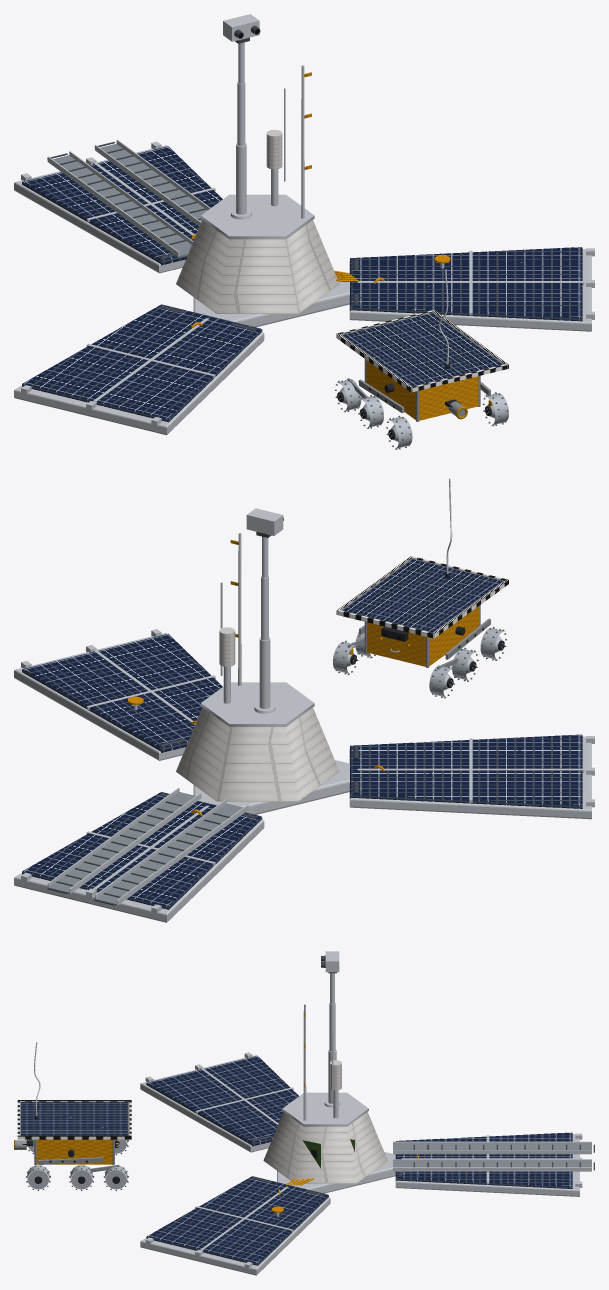
The model's file is sojourner_pathfinder.glb.
The picture shows the model from 3 angles, top to bottom: view 1: azimuth 30°, elevation 25°; view 2: azimuth 150°, elevation 25°; view 3: azimuth 270°, elevation 25°; orthographic projection. The views are drawn at different scales.
Parts seen in each view (by area): view 1: Petal_3, Petal_2, Central_Electronics_Body, Petal_1, Solar_Panel_Assembly, Rover_Deployment_Ramps, Chassis_Assembly, Base_Assembly, IMP_Camera_Mast, Communications_Assembly, IMP_Stereo_Camera_Head, ASI_MET_Meteorology_Mast (+4 smaller); view 2: Petal_3, Petal_2, Central_Electronics_Body, Petal_1, Solar_Panel_Assembly, Rover_Deployment_Ramps, Chassis_Assembly, Base_Assembly, IMP_Camera_Mast, Communications_Assembly, IMP_Stereo_Camera_Head, ASI_MET_Meteorology_Mast (+4 smaller); view 3: Petal_2, Petal_3, Central_Electronics_Body, Petal_1, Rover_Deployment_Ramps, Solar_Panel_Assembly, Chassis_Assembly, Base_Assembly, IMP_Camera_Mast, Communications_Assembly, Suspension_Right, Wheel_Rear_Right (+2 smaller).
Boxes of the visible parts, x1,y1,x2,y2 form: Petal_3: (14,304,264,435); Petal_2: (349,247,594,331); Central_Electronics_Body: (176,194,358,313); Petal_1: (14,141,222,273); Solar_Panel_Assembly: (336,310,508,392); Rover_Deployment_Ramps: (47,139,210,257); Chassis_Assembly: (364,359,480,421); Base_Assembly: (191,233,384,328); IMP_Camera_Mast: (230,42,251,219); Communications_Assembly: (266,88,285,206); IMP_Stereo_Camera_Head: (223,14,260,43); ASI_MET_Meteorology_Mast: (301,65,311,218); Petal_3: (349,734,594,819); Petal_2: (14,629,222,760); Central_Electronics_Body: (176,682,339,801); Petal_1: (14,792,264,922); Solar_Panel_Assembly: (336,556,508,638); Rover_Deployment_Ramps: (47,788,248,905); Chassis_Assembly: (364,605,480,667); Base_Assembly: (191,720,384,815); IMP_Camera_Mast: (254,536,275,713); Communications_Assembly: (219,582,235,703); IMP_Stereo_Camera_Head: (246,508,283,537); ASI_MET_Meteorology_Mast: (230,532,241,685); Petal_2: (140,1176,330,1275); Petal_3: (140,1052,298,1152); Central_Electronics_Body: (263,1092,387,1185); Petal_1: (395,1132,582,1196); Rover_Deployment_Ramps: (393,1141,594,1171); Solar_Panel_Assembly: (17,1100,131,1139); Chassis_Assembly: (34,1139,114,1164); Base_Assembly: (277,1122,418,1195); IMP_Camera_Mast: (324,973,340,1107); Communications_Assembly: (330,1031,341,1118); Suspension_Right: (36,1149,119,1172); Wheel_Rear_Right: (26,1165,50,1190).
Size of the model in its own units: 2.93 by 1.34 by 3.36.
19 materials, 7 textured.
